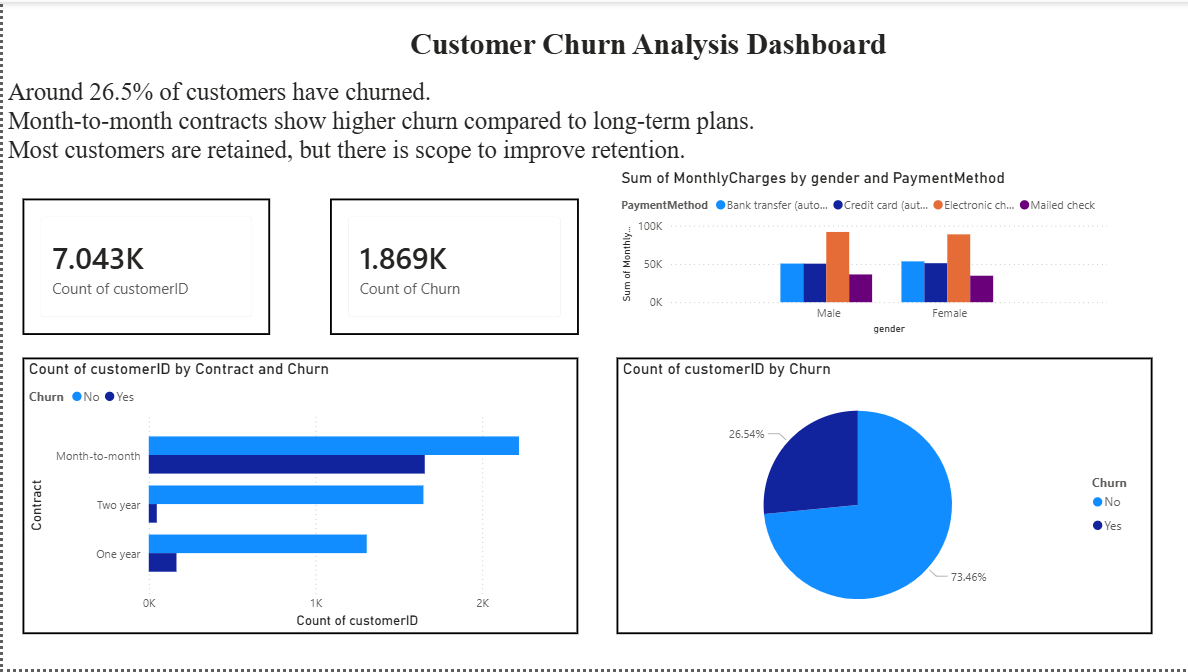

What the dashboard file says about the page in this screenshot:
{"tool":"powerbi","page":{"name":"Page 1","canvas":[1280,720],"ordinal":0},"visuals":[{"type":"cardVisual","fields":{"Data":["CountNonNull(WA_Fn-UseC_-Telco-Customer-Churn.customerID)"]},"box":[21,212.1,267.2,147.3],"z":0},{"type":"cardVisual","fields":{"Data":["CountNonNull(WA_Fn-UseC_-Telco-Customer-Churn.Churn)"]},"box":[353,212.1,268.8,147.3],"z":1000},{"type":"pieChart","fields":{"Category":["WA_Fn-UseC_-Telco-Customer-Churn.Churn"],"Y":["CountNonNull(WA_Fn-UseC_-Telco-Customer-Churn.customerID)"]},"box":[661.7,383.3,578.3,298.3],"z":2000},{"type":"clusteredBarChart","fields":{"Category":["WA_Fn-UseC_-Telco-Customer-Churn.Contract"],"Y":["CountNonNull(WA_Fn-UseC_-Telco-Customer-Churn.customerID)"],"Series":["WA_Fn-UseC_-Telco-Customer-Churn.Churn"]},"box":[21.7,383.3,600,298.3],"z":3000},{"type":"textbox","box":[0,20.8,1279.4,158.7],"z":4000},{"type":"clusteredColumnChart","fields":{"Category":["WA_Fn-UseC_-Telco-Customer-Churn.gender"],"Series":["WA_Fn-UseC_-Telco-Customer-Churn.PaymentMethod"],"Y":["Sum(WA_Fn-UseC_-Telco-Customer-Churn.MonthlyCharges)"]},"box":[662.3,179.7,534.3,183],"z":4001}]}

Visuals, with their boxes in screenshot pixels (x1, y1, x2, y2), scaled from the page's 1280x720 canvas onto the 1188x672 screenshot:
cardVisual - CountNonNull(WA_Fn-UseC_-Telco-Customer-Churn.customerID): bbox=[19, 198, 267, 335]
cardVisual - CountNonNull(WA_Fn-UseC_-Telco-Customer-Churn.Churn): bbox=[328, 198, 577, 335]
pieChart - WA_Fn-UseC_-Telco-Customer-Churn.Churn x CountNonNull(WA_Fn-UseC_-Telco-Customer-Churn.customerID): bbox=[614, 358, 1151, 636]
clusteredBarChart - WA_Fn-UseC_-Telco-Customer-Churn.Contract x CountNonNull(WA_Fn-UseC_-Telco-Customer-Churn.customerID): bbox=[20, 358, 577, 636]
textbox: bbox=[0, 19, 1187, 168]
clusteredColumnChart - WA_Fn-UseC_-Telco-Customer-Churn.gender x WA_Fn-UseC_-Telco-Customer-Churn.PaymentMethod: bbox=[615, 168, 1111, 339]
